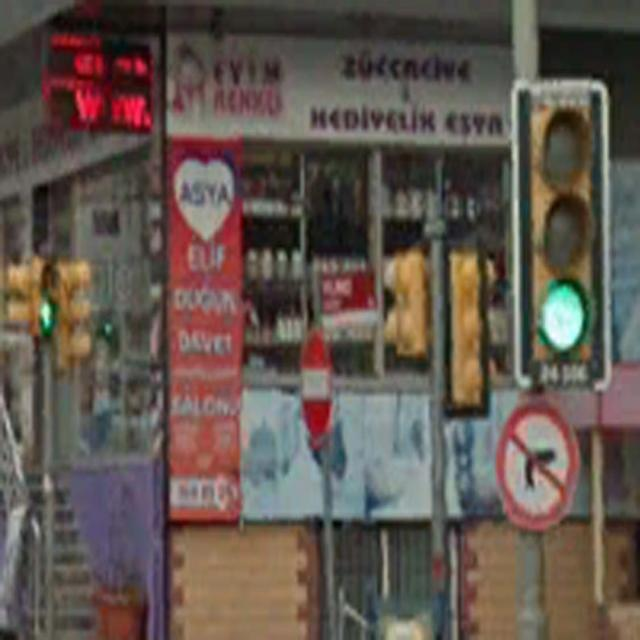sagadonulmez: (496, 402, 579, 530)
yesil: (512, 79, 610, 389)
